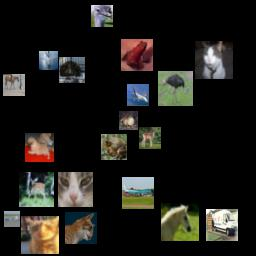airplane: (122, 177, 154, 209), (127, 84, 149, 106), (39, 51, 58, 70)
bird: (158, 71, 193, 106), (91, 5, 113, 27)
cat: (195, 41, 233, 79), (21, 216, 59, 254), (58, 172, 93, 207), (65, 212, 97, 244), (59, 57, 85, 83)
deer: (19, 172, 54, 207), (139, 127, 161, 149)
dog: (25, 133, 54, 162)
frog: (121, 39, 153, 71), (101, 134, 127, 160), (119, 111, 138, 130)
ship: (4, 211, 20, 227)
truck: (206, 209, 238, 241)
